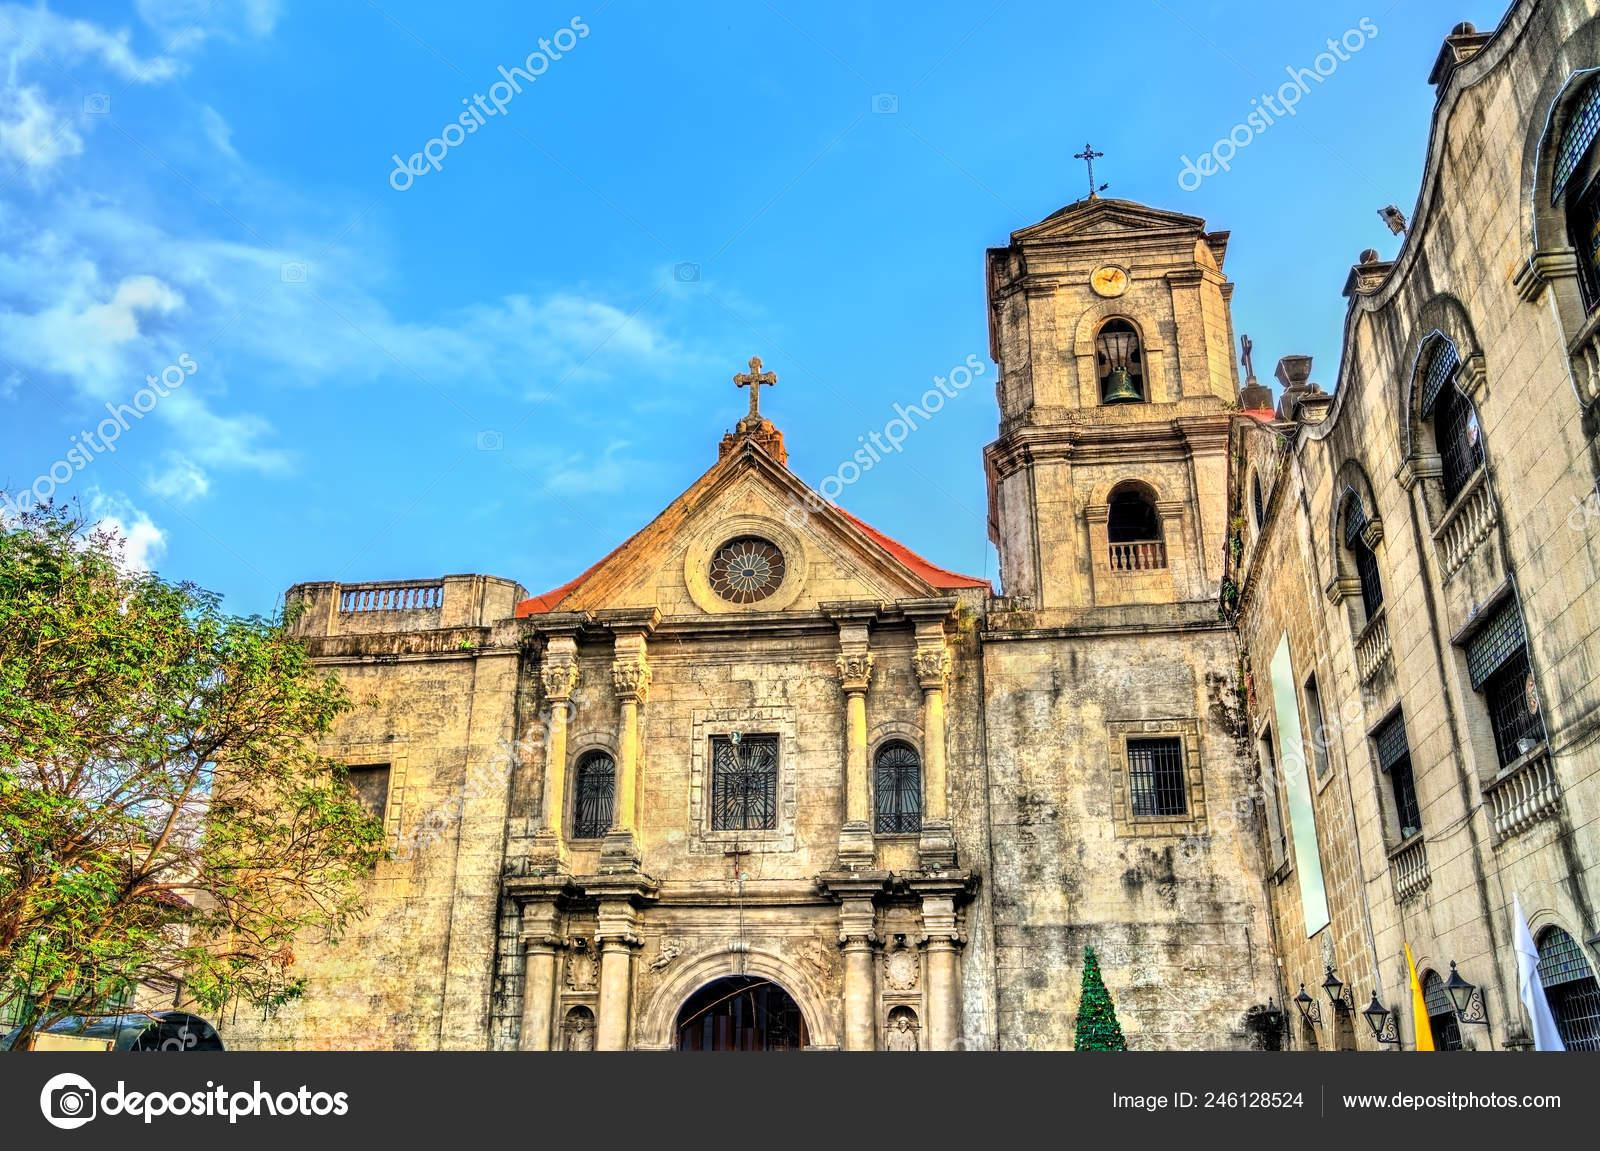Environmental Damage: (1200, 670, 1261, 750), (1212, 574, 1243, 618)
San Agustin Church: (492, 130, 1301, 1055)
